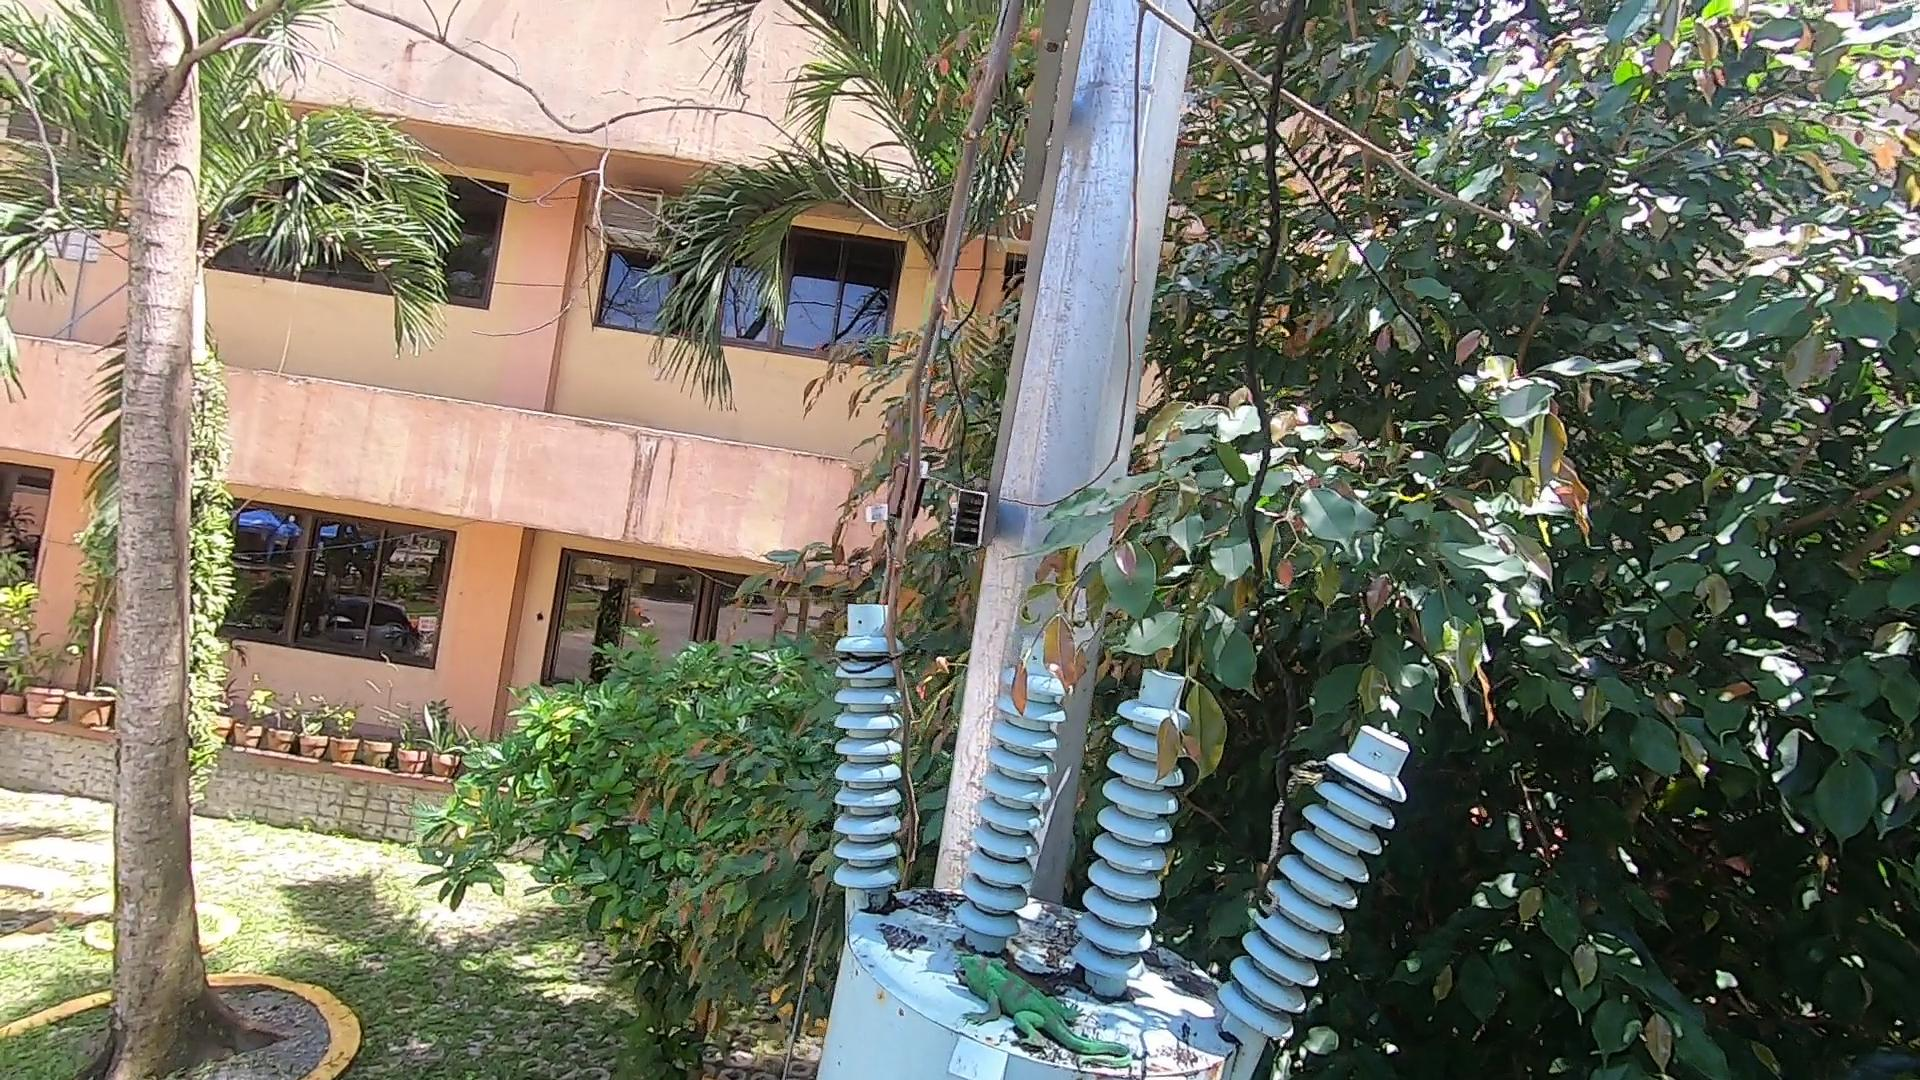branch with leaves: (992, 493, 1258, 803)
leaf: (1002, 942, 1098, 989), (1147, 948, 1207, 998), (860, 885, 915, 927)
tree branch: (858, 3, 1557, 885)
